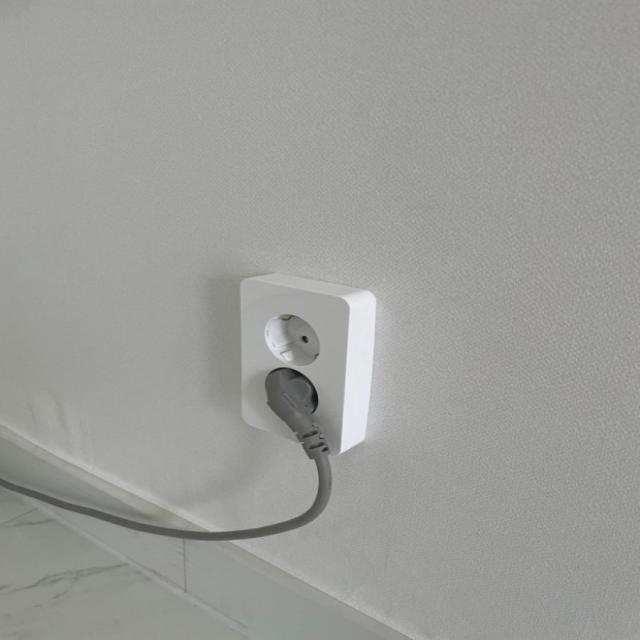typeb: (186, 272, 437, 499)
